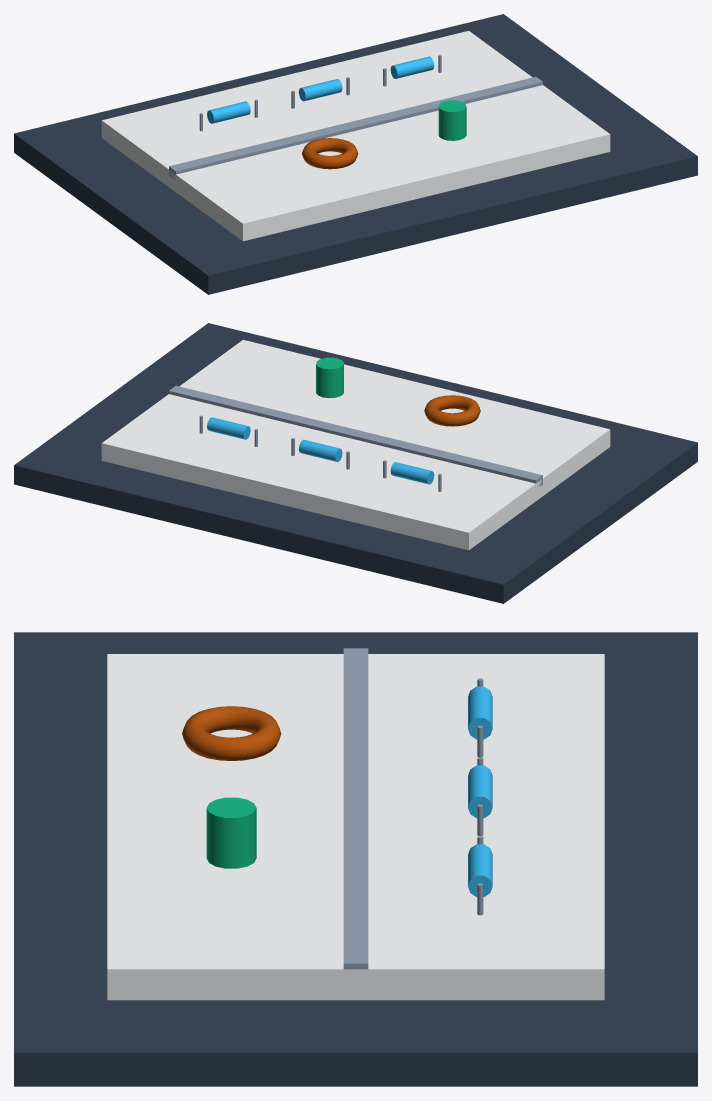
File: breadboard_circuit.glb
3 views of the same model, one above another, from view 1: azimuth 30°, elevation 25°; view 2: azimuth 150°, elevation 25°; view 3: azimuth 270°, elevation 25° (orthographic). The views are drawn at different scales.
Parts seen in each view (by area): view 1: Solderless_Breadboard_RLC, Inductor_Coil, Capacitor_Electrolytic, Resistor_1, Resistor_3, Resistor_2; view 2: Solderless_Breadboard_RLC, Inductor_Coil, Capacitor_Electrolytic, Resistor_3, Resistor_1, Resistor_2; view 3: Solderless_Breadboard_RLC, Inductor_Coil, Capacitor_Electrolytic, Resistor_1, Resistor_3, Resistor_2.
Boxes of the visible parts, left/top/right/bottom form: Solderless_Breadboard_RLC: left=14, top=14, right=697, bottom=294; Inductor_Coil: left=302, top=138, right=358, bottom=169; Capacitor_Electrolytic: left=438, top=100, right=466, bottom=140; Resistor_1: left=207, top=101, right=250, bottom=123; Resistor_3: left=390, top=56, right=434, bottom=78; Resistor_2: left=298, top=79, right=342, bottom=101; Solderless_Breadboard_RLC: left=14, top=323, right=697, bottom=603; Inductor_Coil: left=424, top=395, right=480, bottom=426; Capacitor_Electrolytic: left=316, top=357, right=343, bottom=398; Resistor_3: left=207, top=417, right=250, bottom=439; Resistor_1: left=390, top=462, right=434, bottom=484; Resistor_2: left=299, top=439, right=342, bottom=462; Solderless_Breadboard_RLC: left=14, top=632, right=697, bottom=1086; Inductor_Coil: left=182, top=706, right=281, bottom=760; Capacitor_Electrolytic: left=206, top=797, right=256, bottom=868; Resistor_1: left=468, top=686, right=492, bottom=739; Resistor_3: left=468, top=844, right=492, bottom=897; Resistor_2: left=468, top=765, right=492, bottom=818.
Size of the model in its own units: 0.32 by 0.043 by 0.22.
